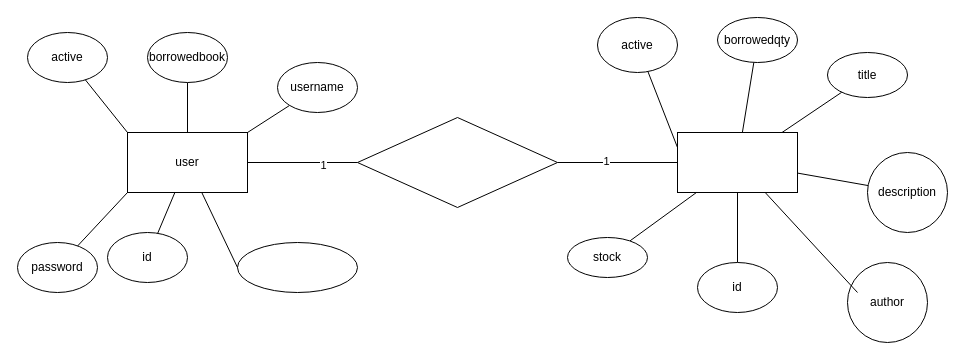
Image size: 965x360. Some labels were removed from this diagram. Each missing label, with the centre of its shape:
books: (x=737, y=162)
borrow/return: (x=457, y=162)
borrowed_date: (x=297, y=267)
